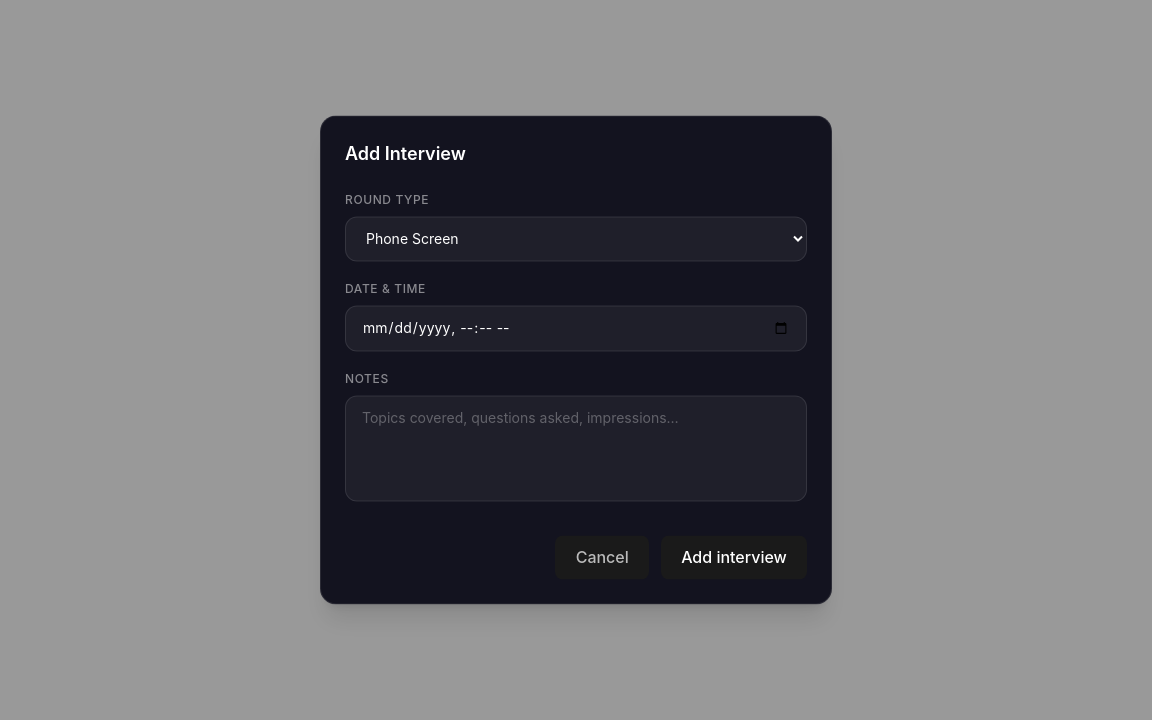
InterviewForm › shows a validation error when submitted without a date
The image size is (1152, 720).
Click the button "Add interview" at x=734, y=558, box [661, 536, 807, 580]
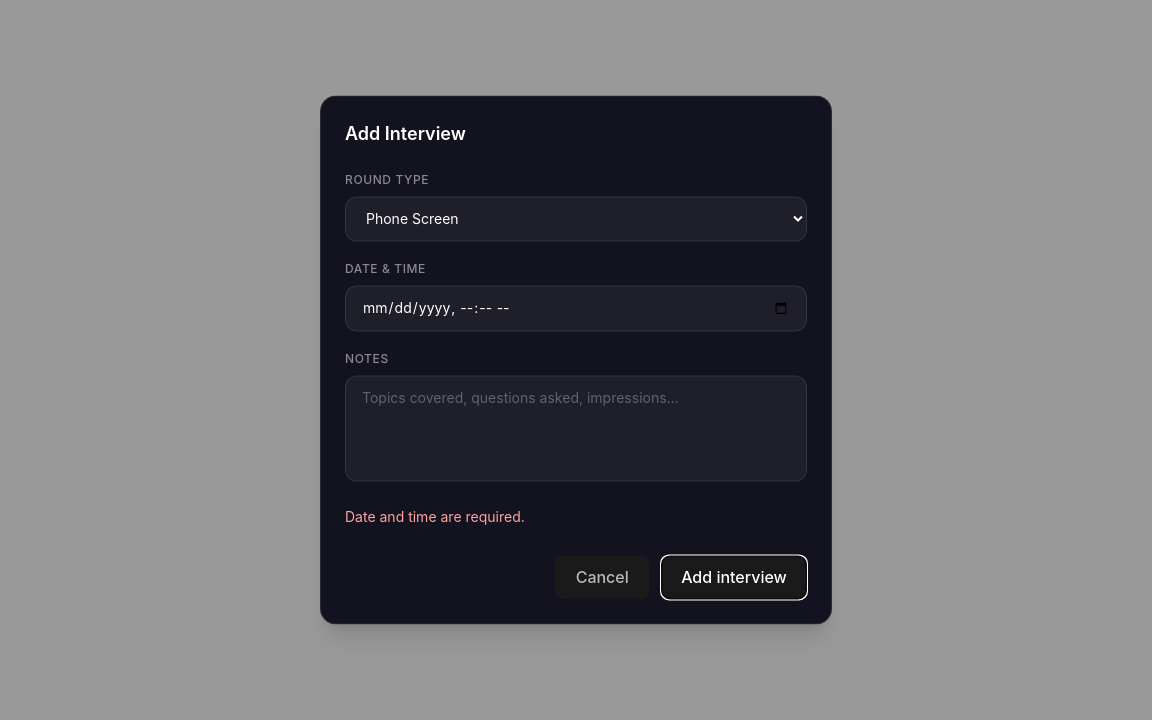
Expected: the message "Date and time are required." is shown, [345, 508, 525, 526]
